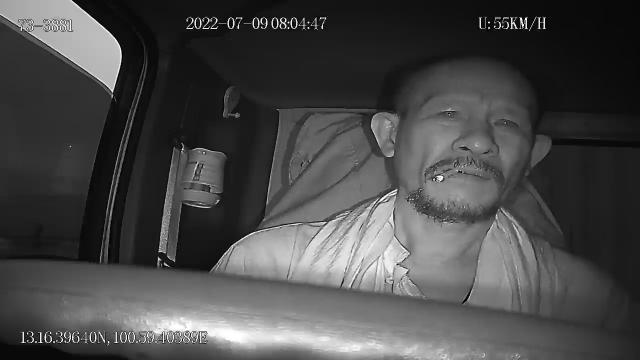SafeDriving: (426, 98, 468, 128), (485, 106, 524, 138)
Smoking: (431, 168, 459, 184)
